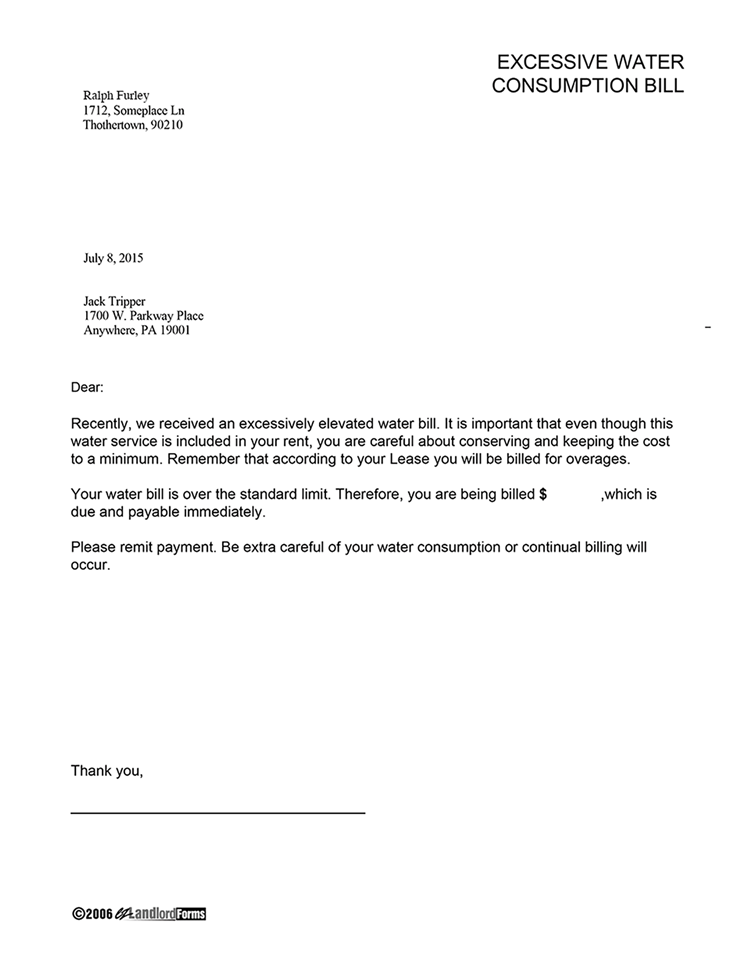textline: (65, 785, 379, 833)
